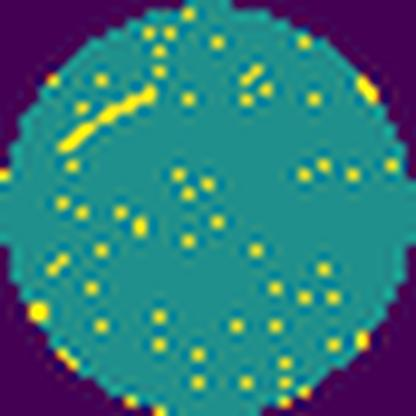Scratch: (52, 79, 162, 159)
